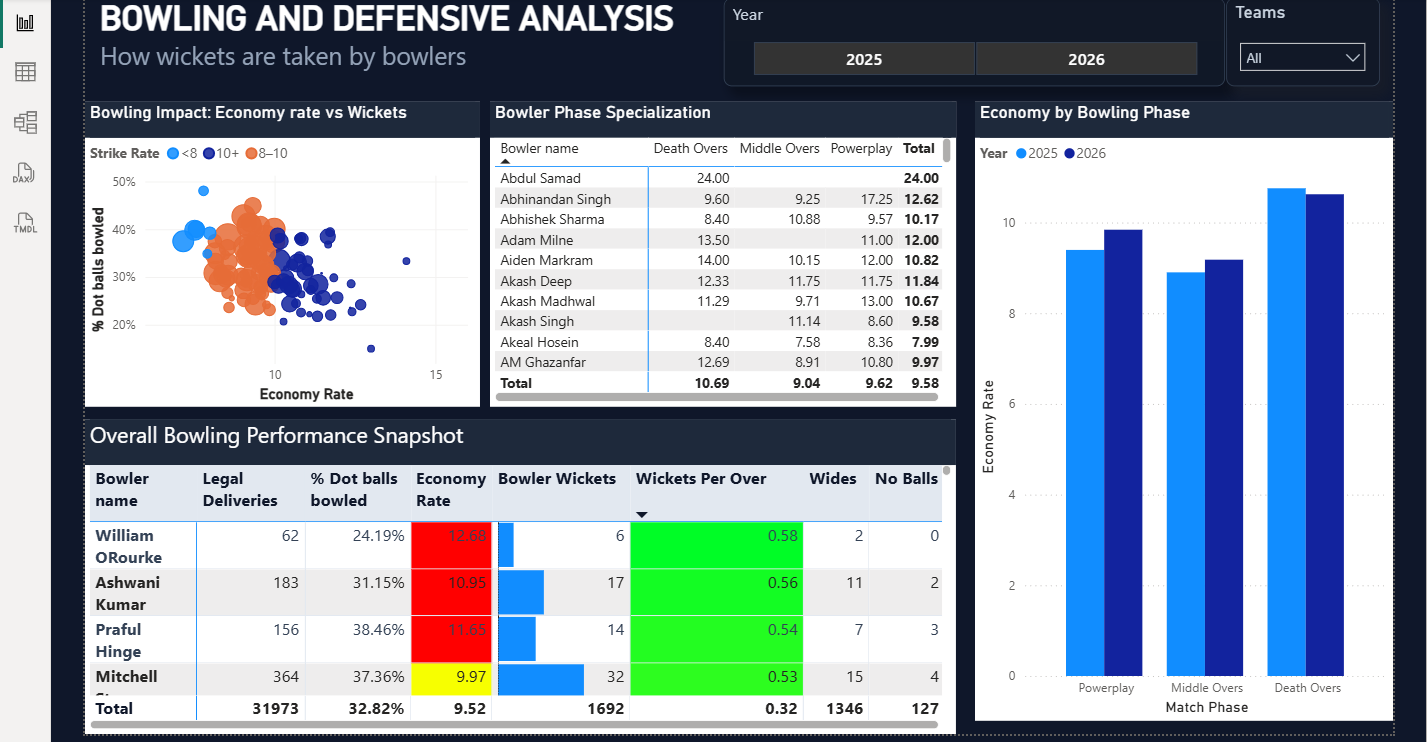

What the dashboard file says about the page in this screenshot:
{"tool":"powerbi","page":{"name":"Page 3","canvas":[1280,720],"ordinal":2},"visuals":[{"type":"textbox","title":"BOWLING AND DEFENSIVE ANALYSIS","box":[9.8,0,590.6,74.6],"z":0},{"type":"slicer","title":"Year","fields":{"Values":["dim_date.Year"]},"box":[639.5,0,490.7,86.1],"z":1000},{"type":"slicer","title":"Teams","fields":{"Values":["dim_bowling_teams.Teams"]},"box":[1116.7,0,150,86.1],"z":2000},{"type":"scatterChart","title":"Bowling Impact: Economy rate vs Wickets","fields":{"Category":["dim_bowlers.player_name"],"Series":["dim_bowlers.Economy"],"Size":["KPI Measures.Bowler Wickets"],"X":["KPI Measures.Economy Rate"],"Y":["KPI Measures.% Dot balls bowled"]},"box":[0,101.5,386.4,298.4],"z":3000},{"type":"pivotTable","title":"Overall Bowling Performance Snapshot","fields":{"Rows":["dim_bowlers.player_name"],"Values":["KPI Measures.Legal Deliveries","KPI Measures.% Dot balls bowled","KPI Measures.Economy Rate","KPI Measures.Bowler Wickets","KPI Measures.Wickets Per Over","KPI Measures.Wides","KPI Measures.No Balls"]},"box":[9.8,412.1,852.3,308.2],"z":4000},{"type":"pivotTable","title":"Bowler Phase Specialization","fields":{"Columns":["fact_deliveries.phase_category"],"Rows":["dim_bowlers.player_name"],"Values":["KPI Measures.Economy Rate"]},"box":[396.2,101.5,456.1,298.4],"z":5000},{"type":"clusteredColumnChart","title":"Economy by Bowling Phase","fields":{"Category":["fact_deliveries.phase_category"],"Series":["dim_date.Year"],"Y":["KPI Measures.Economy Rate"]},"box":[870.7,101.5,409.6,605.3],"z":6000}]}

Visuals, with their boxes on the page's 1280x720 design canvas (x1, y1, x2, y2). These are canvas units, not pixel positions in the 1427x742 screenshot, which may show the page scaled, cropped or inside an application window:
"BOWLING AND DEFENSIVE ANALYSIS" textbox: {"left": 10, "top": 0, "right": 600, "bottom": 75}
"Year" slicer: {"left": 640, "top": 0, "right": 1130, "bottom": 86}
"Teams" slicer: {"left": 1117, "top": 0, "right": 1267, "bottom": 86}
"Bowling Impact: Economy rate vs Wickets" scatterChart: {"left": 0, "top": 102, "right": 386, "bottom": 400}
"Overall Bowling Performance Snapshot" pivotTable: {"left": 10, "top": 412, "right": 862, "bottom": 720}
"Bowler Phase Specialization" pivotTable: {"left": 396, "top": 102, "right": 852, "bottom": 400}
"Economy by Bowling Phase" clusteredColumnChart: {"left": 871, "top": 102, "right": 1280, "bottom": 707}
